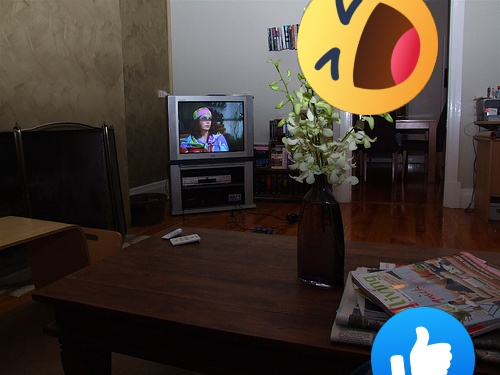haha: (297, 0, 438, 115)
like: (371, 307, 475, 375)
